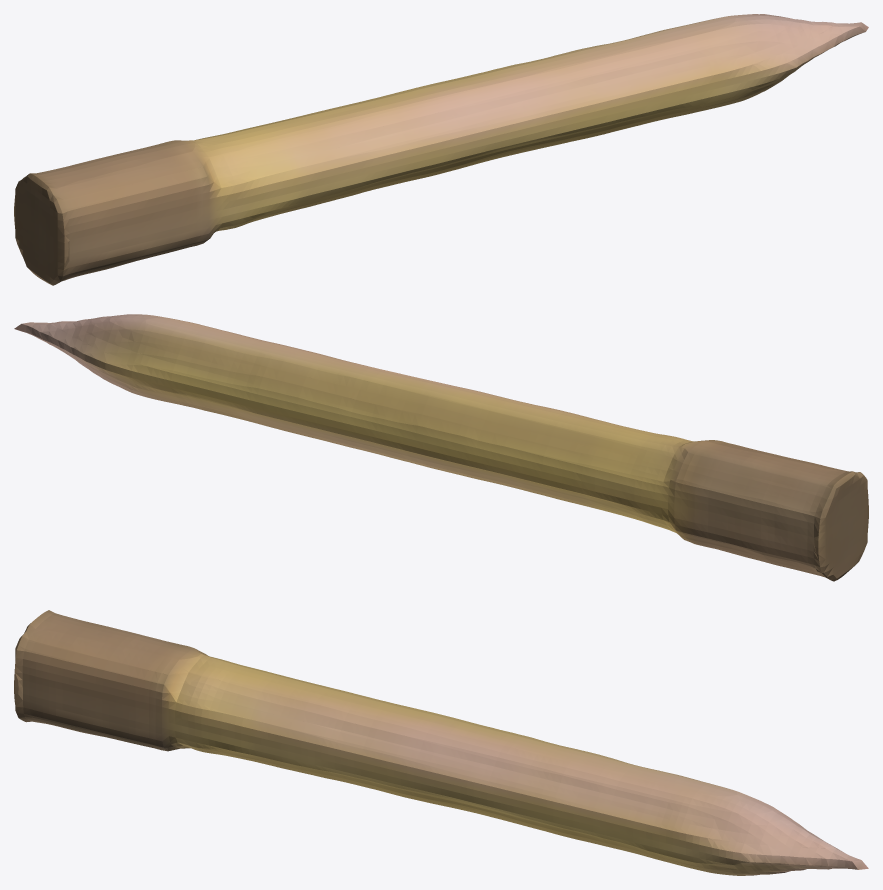
The picture shows the model from 3 angles, top to bottom: view 1: azimuth 30°, elevation 25°; view 2: azimuth 150°, elevation 25°; view 3: azimuth 330°, elevation 25°; orthographic projection.
Parts seen in each view (by area): view 1: cube_0.obj; view 2: cube_0.obj; view 3: cube_0.obj.
Boxes of the visible parts, x1=… form: cube_0.obj: x1=14, y1=14, x2=868, y2=285; cube_0.obj: x1=14, y1=314, x2=868, y2=581; cube_0.obj: x1=14, y1=610, x2=868, y2=875.
Size of the model in its own units: 1.94 by 0.2213 by 0.2046.
